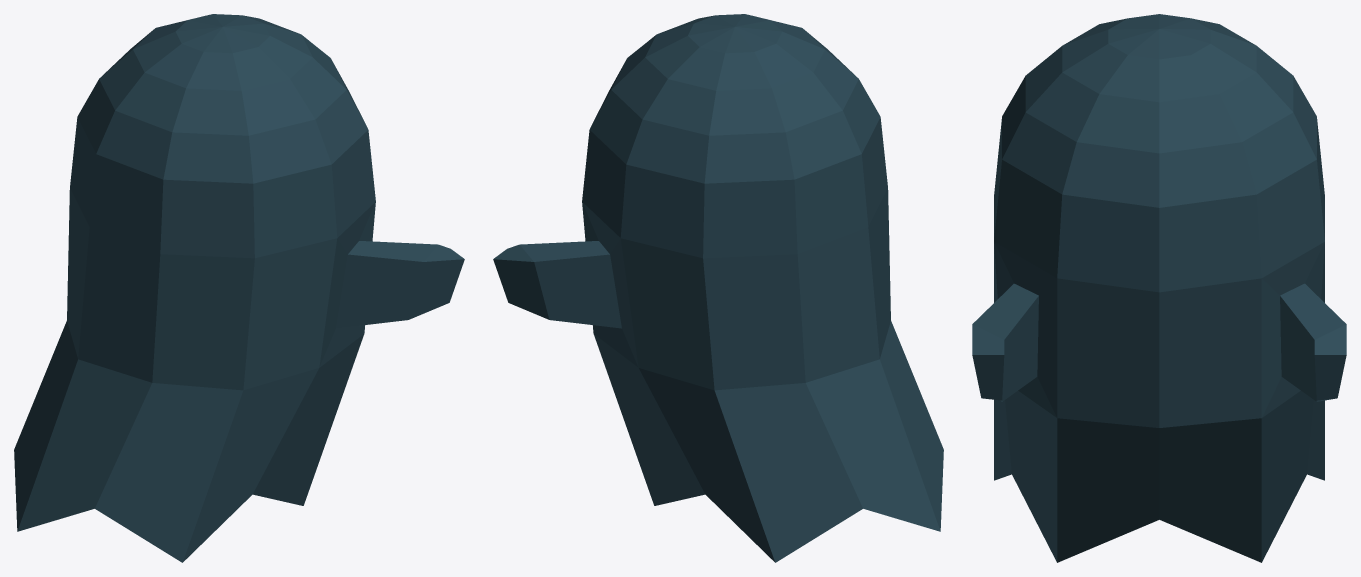
File: Shadow.fbx
3 views of the same model, side by side, from view 1: azimuth 30°, elevation 25°; view 2: azimuth 150°, elevation 25°; view 3: azimuth 270°, elevation 25° (orthographic). The views are drawn at different scales.
Parts seen in each view (by area): view 1: Shadow; view 2: Shadow; view 3: Shadow.
Part boxes in pixels (bbox=[...]): Shadow: bbox=[14, 14, 464, 562]; Shadow: bbox=[493, 14, 943, 562]; Shadow: bbox=[972, 14, 1346, 562].
Bounding box in the file's own units: 353 × 420 × 277.
